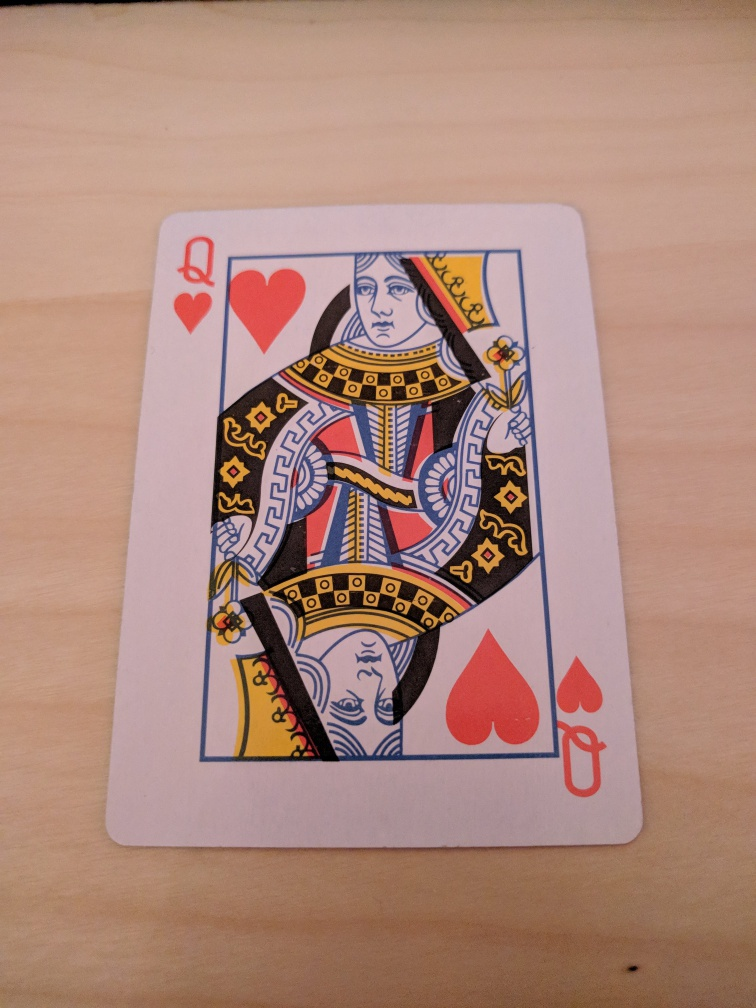queen: (105, 204, 645, 849)
